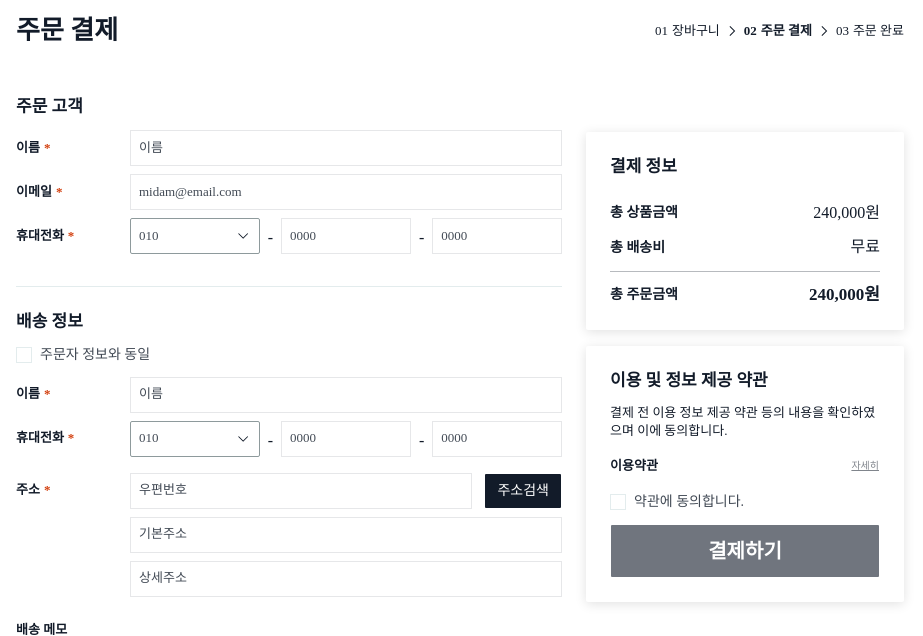
Test case: 동일 배송을 먼저 체크한 뒤 주문자를 입력하면 배송정보도 갱신한다
The image size is (923, 636).
Click the checkbox named "주문자 정보와 동일" next to "주문자 정보와 동일": (24, 355) top-left (16, 347), bottom-right (32, 363)
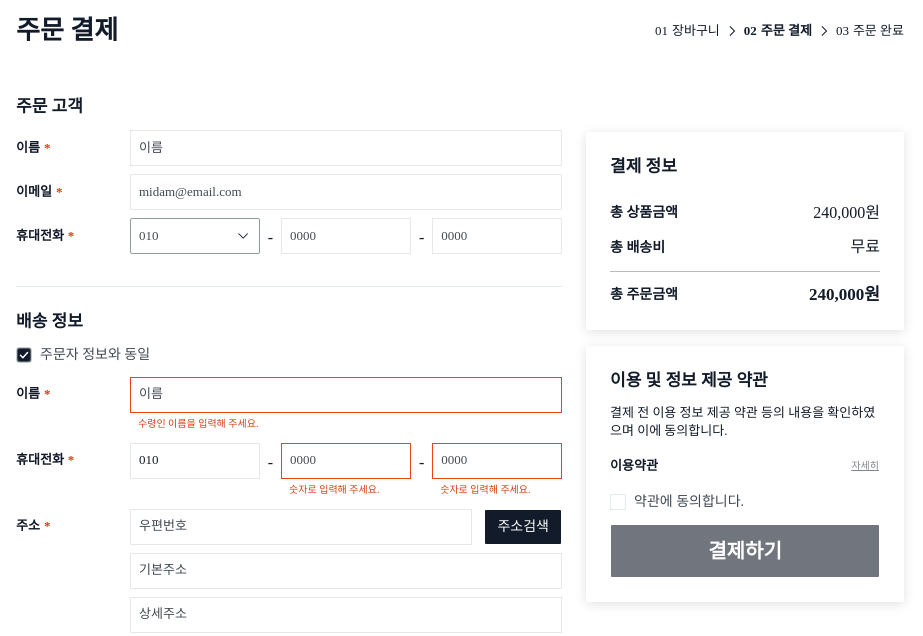
In the field named "주문자 이름": (346, 148) top-left (139, 139), bottom-right (553, 157), type "홍길동"
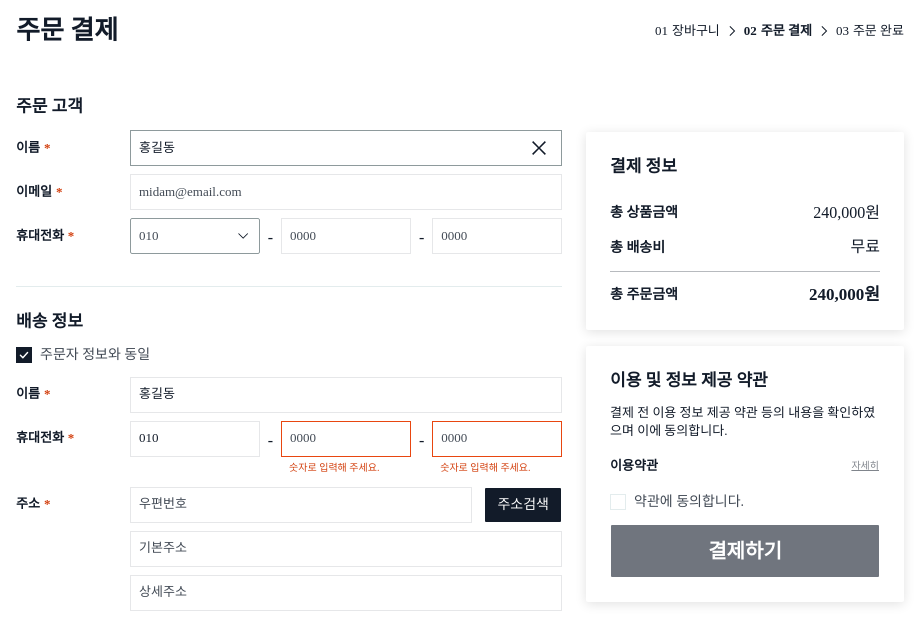
In the field named "주문자 휴대전화 중간자리": (346, 236) top-left (290, 227), bottom-right (402, 245), type "1234"
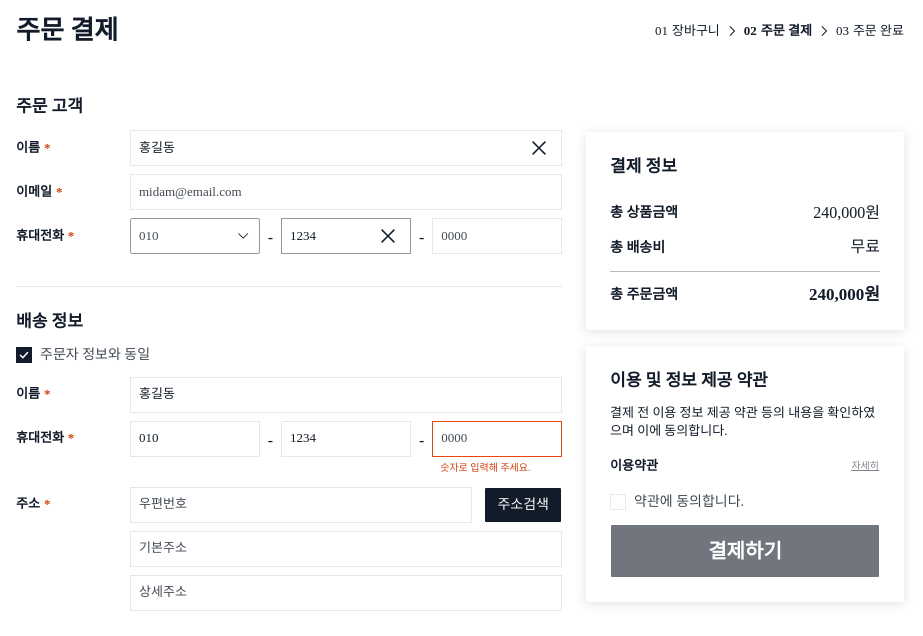
In the field named "주문자 휴대전화 끝자리": (497, 236) top-left (441, 227), bottom-right (553, 245), type "5678"
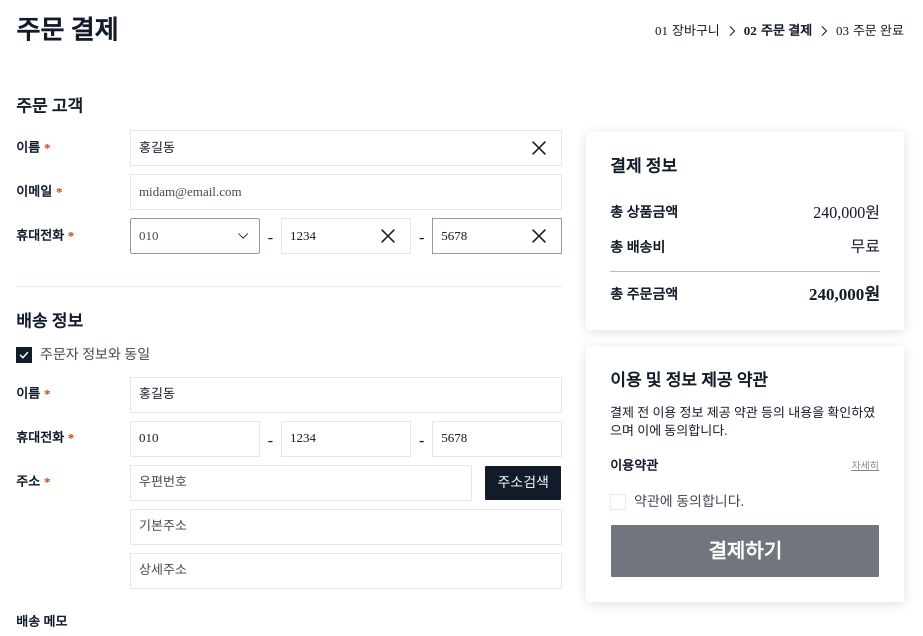
Result: the field named "수령인 이름" holds "홍길동" at top-left (139, 386), bottom-right (553, 404)
Result: the field named "수령인 휴대전화 중간자리" holds "1234" at top-left (290, 430), bottom-right (402, 448)
Result: the field named "수령인 휴대전화 끝자리" holds "5678" at top-left (441, 430), bottom-right (553, 448)
